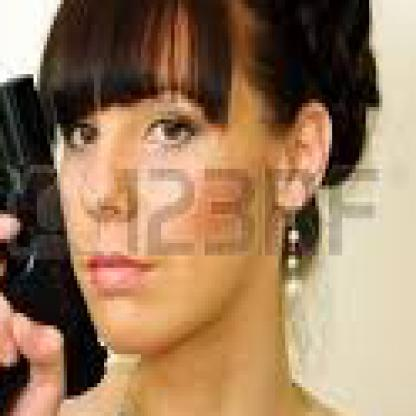gun: (0, 66, 118, 413)
